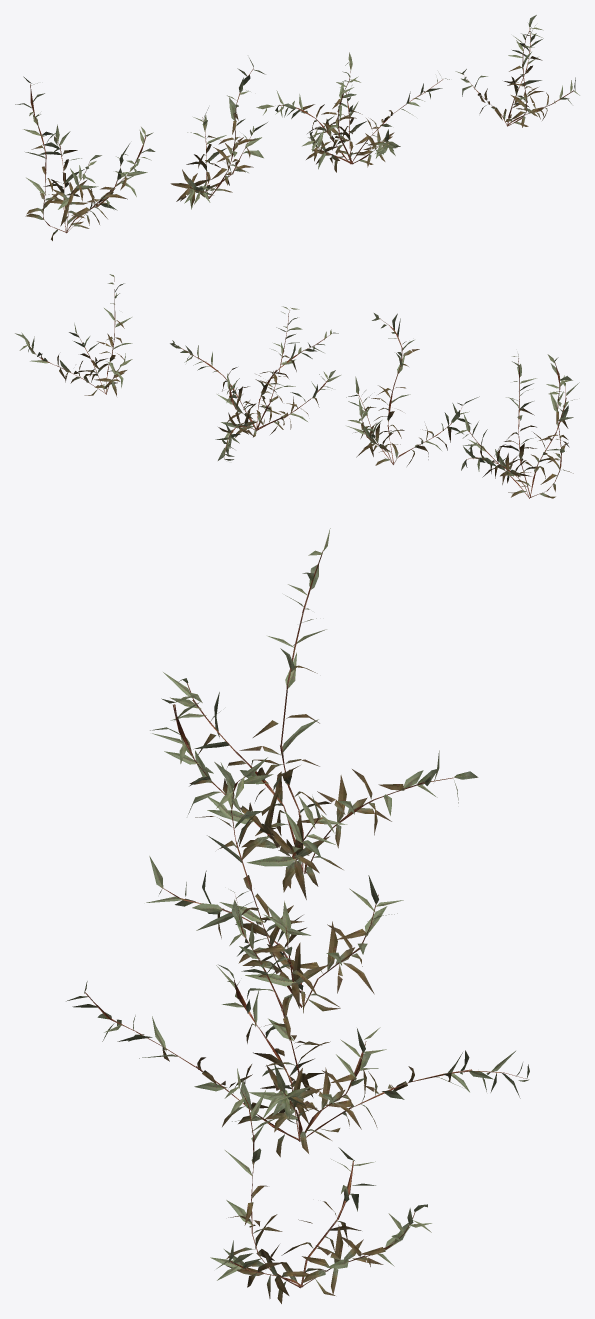
The model's file is shrub_02.glb.
The picture shows the model from 3 angles, top to bottom: view 1: azimuth 30°, elevation 25°; view 2: azimuth 150°, elevation 25°; view 3: azimuth 270°, elevation 25°; orthographic projection. The views are drawn at different scales.
Visible parts, largest first — view 1: shrub_02; view 2: shrub_02; view 3: shrub_02.
Part boxes in pixels (left/top/right/bottom): shrub_02: left=15, top=15, right=579, bottom=240; shrub_02: left=15, top=274, right=579, bottom=498; shrub_02: left=66, top=528, right=529, bottom=1303.
Bounding box in the file's own units: 3.37 × 0.9461 × 1.28.
Materials: 1 (1 with a texture image).
